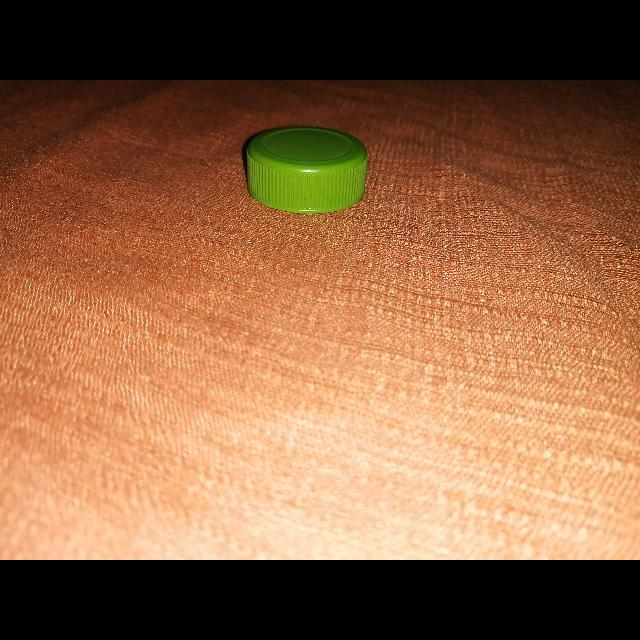plastic_bottle_cap: (245, 126, 368, 214)
